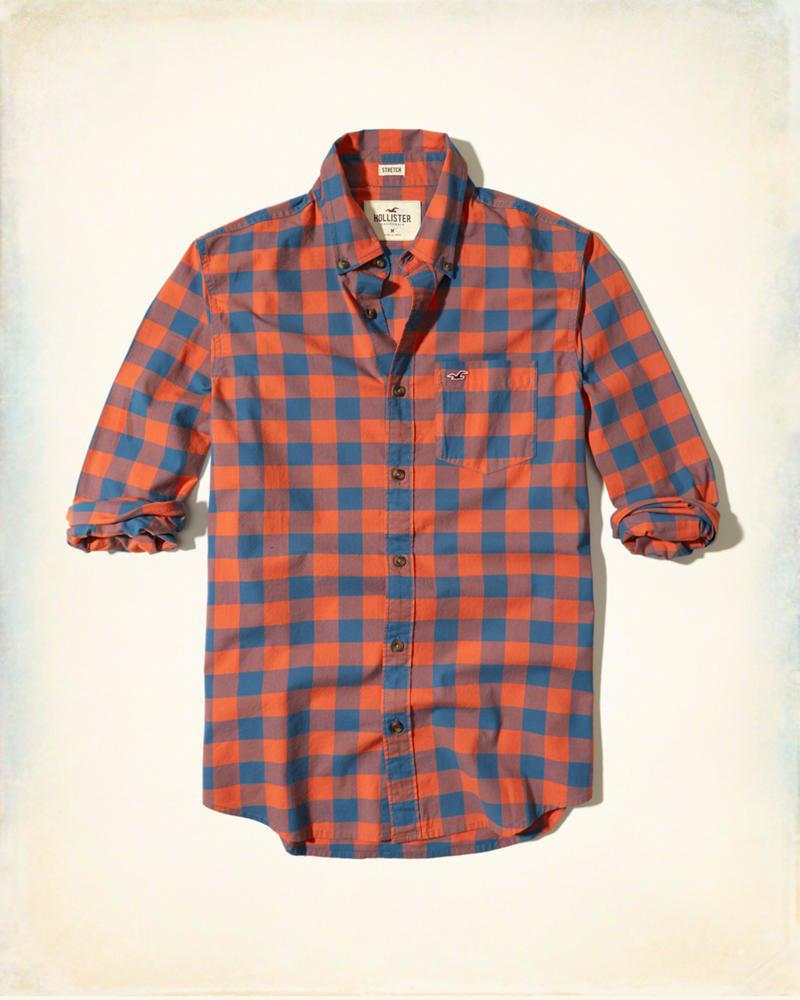teeshirt: (64, 127, 718, 878)
